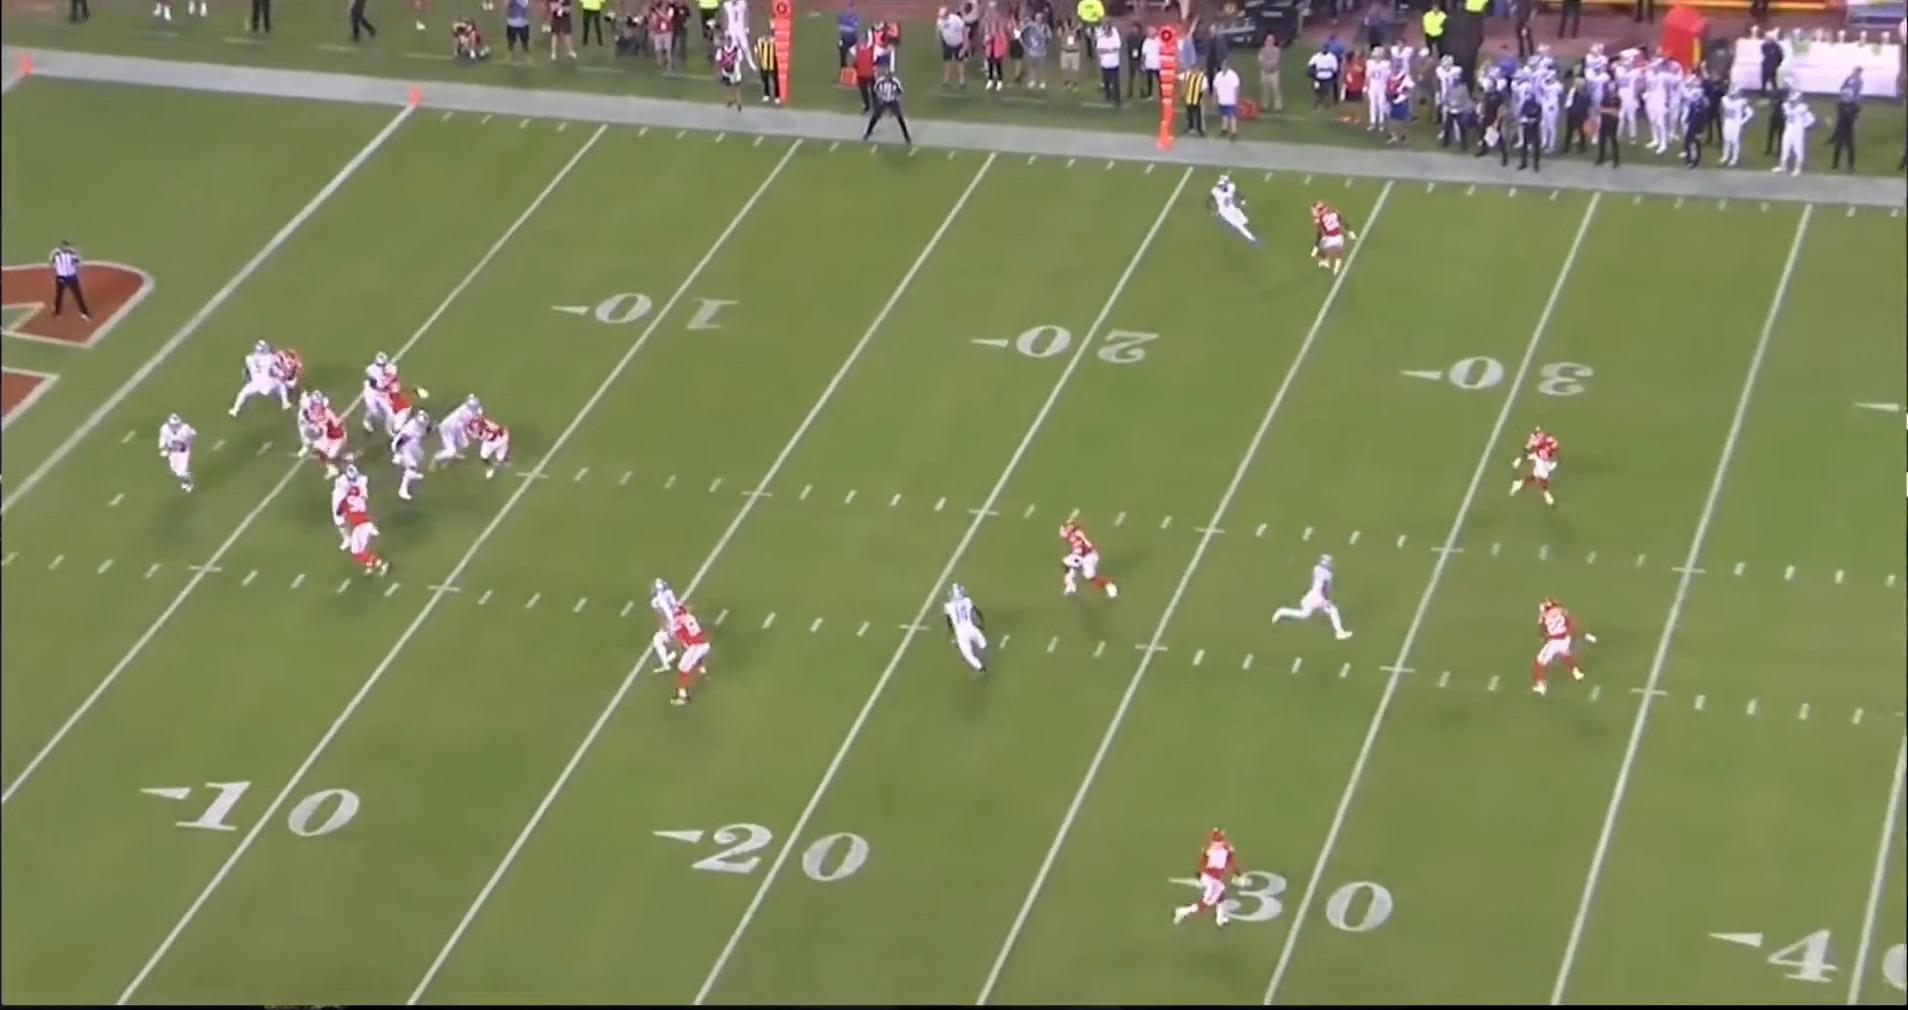player: (1266, 555, 1355, 647), (1172, 828, 1241, 934), (1532, 596, 1601, 696), (1049, 521, 1121, 606), (937, 581, 995, 680), (671, 608, 720, 712), (1509, 427, 1569, 511), (335, 487, 388, 581), (226, 342, 286, 425), (1209, 173, 1266, 253), (428, 396, 487, 473), (644, 576, 688, 675), (160, 410, 207, 498), (326, 456, 378, 533), (392, 406, 433, 503), (1312, 200, 1361, 278), (469, 407, 513, 484), (295, 388, 336, 468), (310, 403, 352, 481), (388, 361, 428, 427), (361, 350, 390, 434), (271, 346, 304, 387)
ref: (44, 236, 94, 326), (859, 69, 916, 146)
